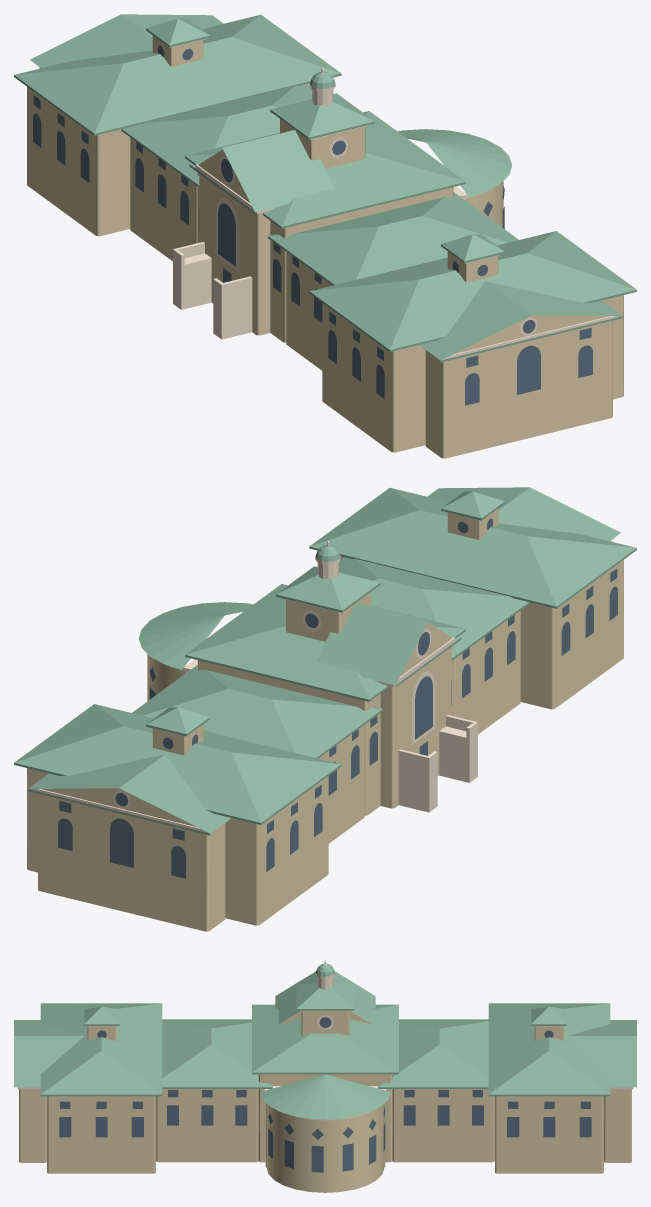
Rendered from nyc-bbg-laboratory.glb.
3 views of the same model, one above another, from view 1: azimuth 30°, elevation 25°; view 2: azimuth 150°, elevation 25°; view 3: azimuth 270°, elevation 25° (orthographic). The views are drawn at different scales.
Visible parts, largest first — view 1: Laboratory Administration Building, Brooklyn Botanic Garden; view 2: Laboratory Administration Building, Brooklyn Botanic Garden; view 3: Laboratory Administration Building, Brooklyn Botanic Garden.
Boxes of the visible parts, <box> form: Laboratory Administration Building, Brooklyn Botanic Garden: <box>14,14,636,458</box>; Laboratory Administration Building, Brooklyn Botanic Garden: <box>14,487,636,931</box>; Laboratory Administration Building, Brooklyn Botanic Garden: <box>14,960,636,1192</box>.
Bounding box in the file's own units: 32.9 × 23.2 × 77.2.
